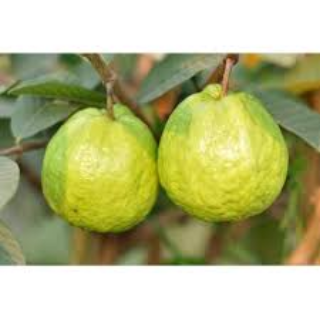oi: (159, 76, 300, 231), (33, 97, 163, 239)
